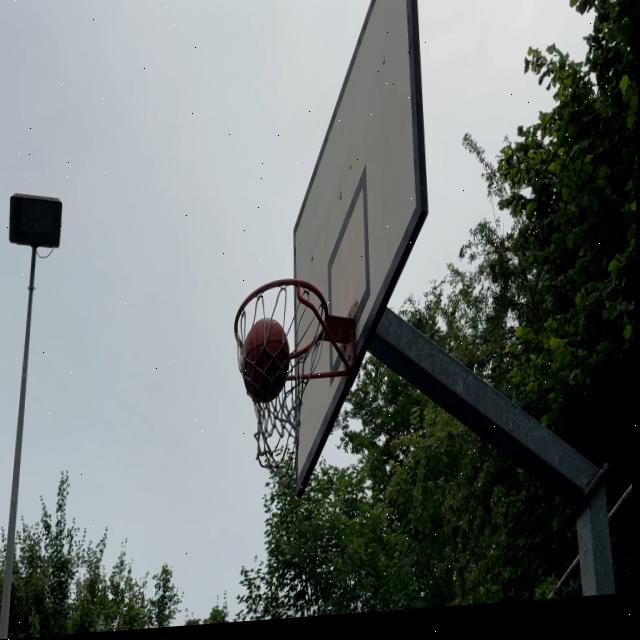Goal: (243, 315, 291, 401)
